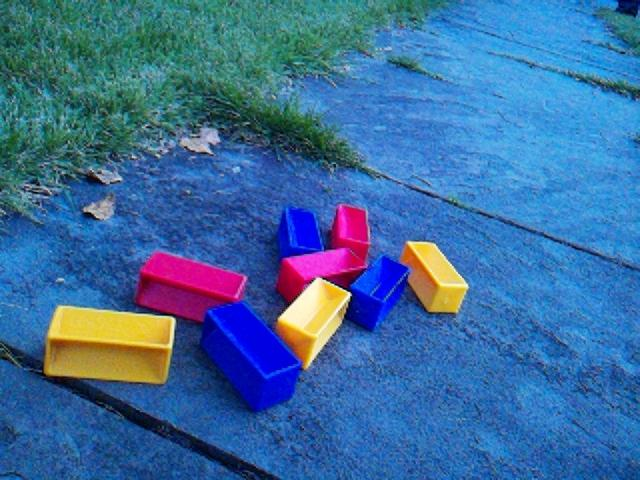blue: (199, 299, 303, 413), (346, 254, 413, 332), (277, 204, 325, 259)
red: (134, 248, 249, 323), (276, 246, 367, 303), (330, 202, 372, 262)
yellow: (42, 303, 177, 386), (275, 276, 353, 371), (399, 239, 470, 315)
